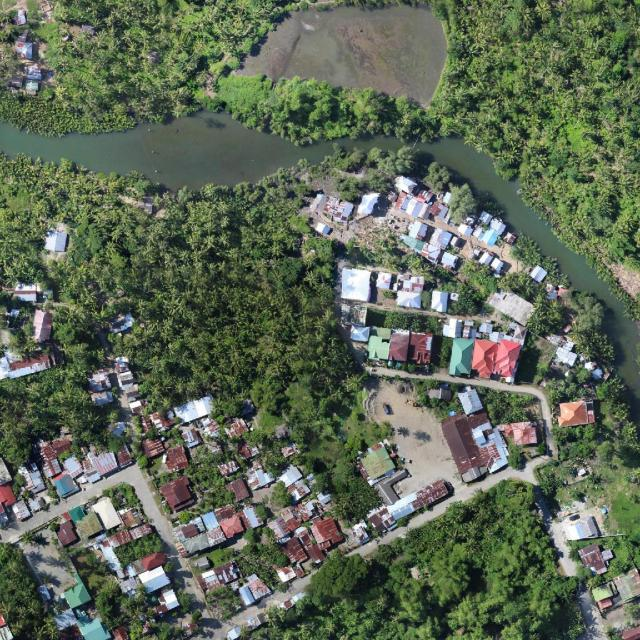building: (44, 472, 201, 640), (246, 490, 350, 594), (247, 489, 350, 590), (431, 382, 513, 485), (185, 534, 273, 624), (166, 490, 267, 565), (166, 494, 268, 563), (185, 550, 277, 609), (0, 7, 48, 95), (448, 334, 522, 381), (572, 533, 622, 582), (551, 513, 602, 547), (159, 473, 198, 513), (60, 578, 93, 612), (50, 468, 81, 500), (387, 332, 410, 361), (554, 554, 580, 579)
greenland: (0, 155, 405, 526), (0, 155, 360, 464), (41, 0, 294, 122), (512, 521, 561, 574), (386, 519, 448, 559), (489, 534, 513, 546)
metalled_road: (430, 350, 560, 422), (380, 368, 424, 378)
unmetalled_road: (97, 454, 198, 547)
wetland: (417, 108, 640, 420), (0, 104, 333, 200)
